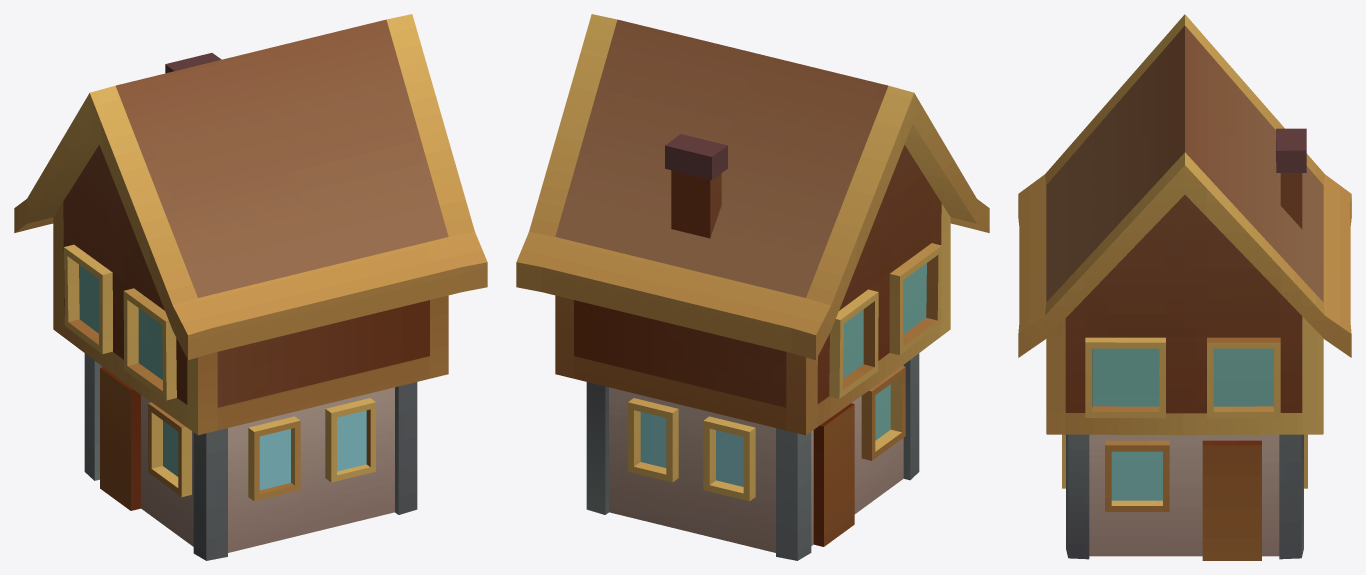
Rendered from WoodStoneHouse.fbx.
3 renders of one model, left to right at view 1: azimuth 30°, elevation 25°; view 2: azimuth 150°, elevation 25°; view 3: azimuth 270°, elevation 25°, orthographic. The views are drawn at different scales.
Visible parts, largest first — view 1: Cube; view 2: Cube; view 3: Cube.
Boxes of the visible parts, <box> form: Cube: <box>14,14,487,560</box>; Cube: <box>516,14,989,560</box>; Cube: <box>1018,14,1351,560</box>.
Bounding box in the file's own units: 106 × 138 × 99.05.
